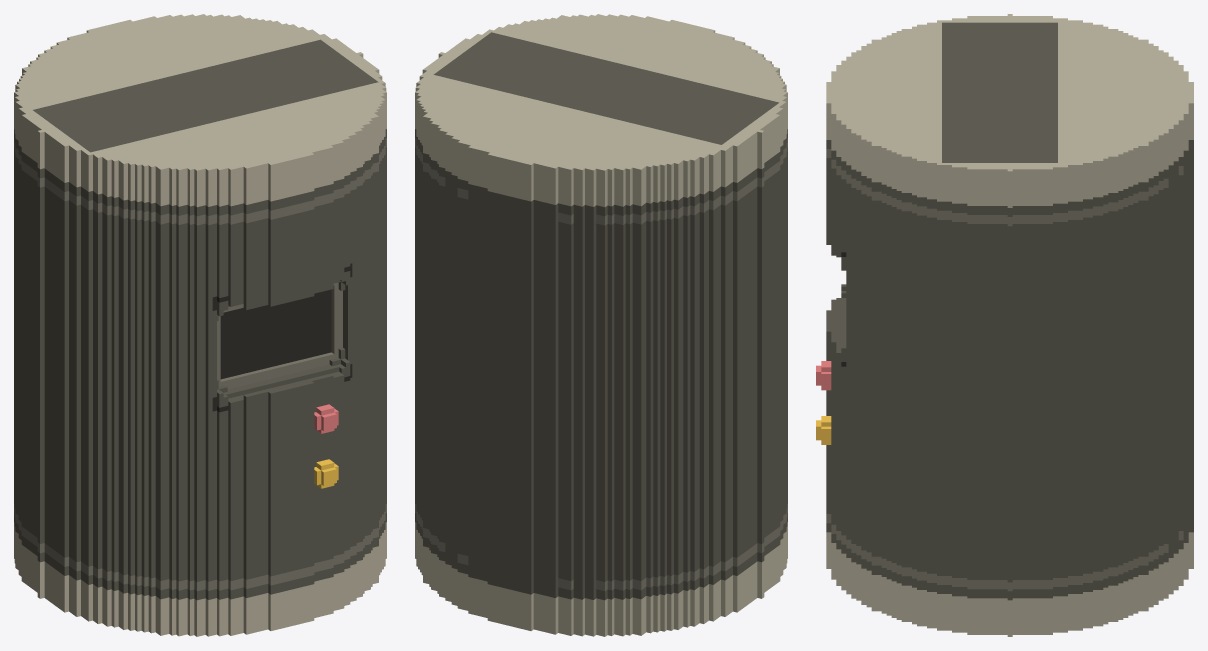
Rendered from factory4.4-28.obj.
3 views of the same model, side by side, from view 1: azimuth 30°, elevation 25°; view 2: azimuth 150°, elevation 25°; view 3: azimuth 270°, elevation 25° (orthographic).
Size of the model in its own units: 7.4 by 10.2 by 7.5.
1 material, 1 textured.
